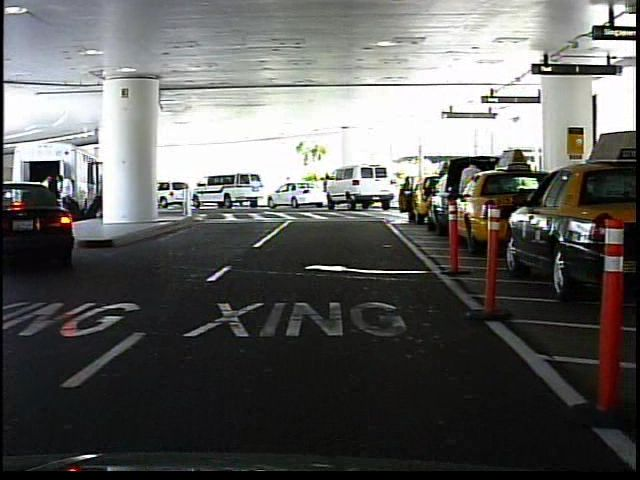car: (512, 150, 640, 293), (450, 170, 578, 255), (1, 181, 75, 263), (328, 166, 390, 209), (187, 171, 261, 206), (267, 176, 320, 210)
